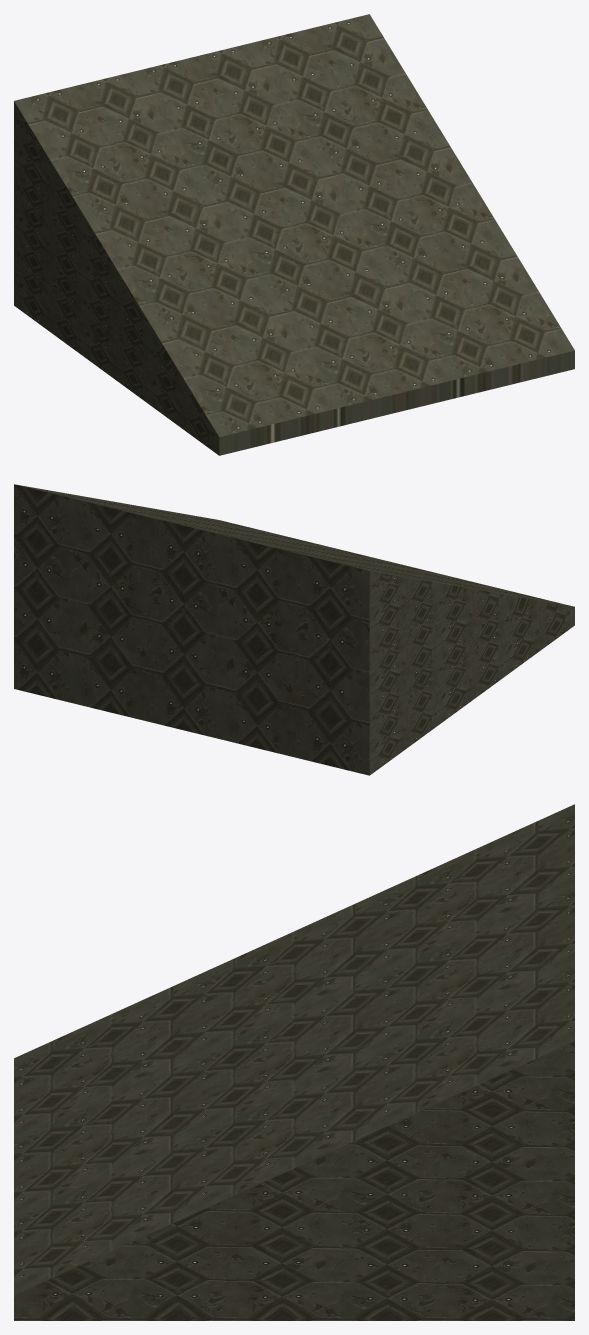
Rendered from Ramp_metal4.glb.
The picture shows the model from 3 angles, top to bottom: view 1: azimuth 30°, elevation 25°; view 2: azimuth 150°, elevation 25°; view 3: azimuth 270°, elevation 25°; orthographic projection. The views are drawn at different scales.
Parts seen in each view (by area): view 1: Cube; view 2: Cube; view 3: Cube.
Boxes of the visible parts, left/top/right/bottom form: Cube: left=14, top=14, right=574, bottom=455; Cube: left=14, top=484, right=574, bottom=775; Cube: left=14, top=804, right=574, bottom=1320.
Size of what is drawn, in the model's own units: 4 by 2.2 by 4.
1 material, 1 textured.
